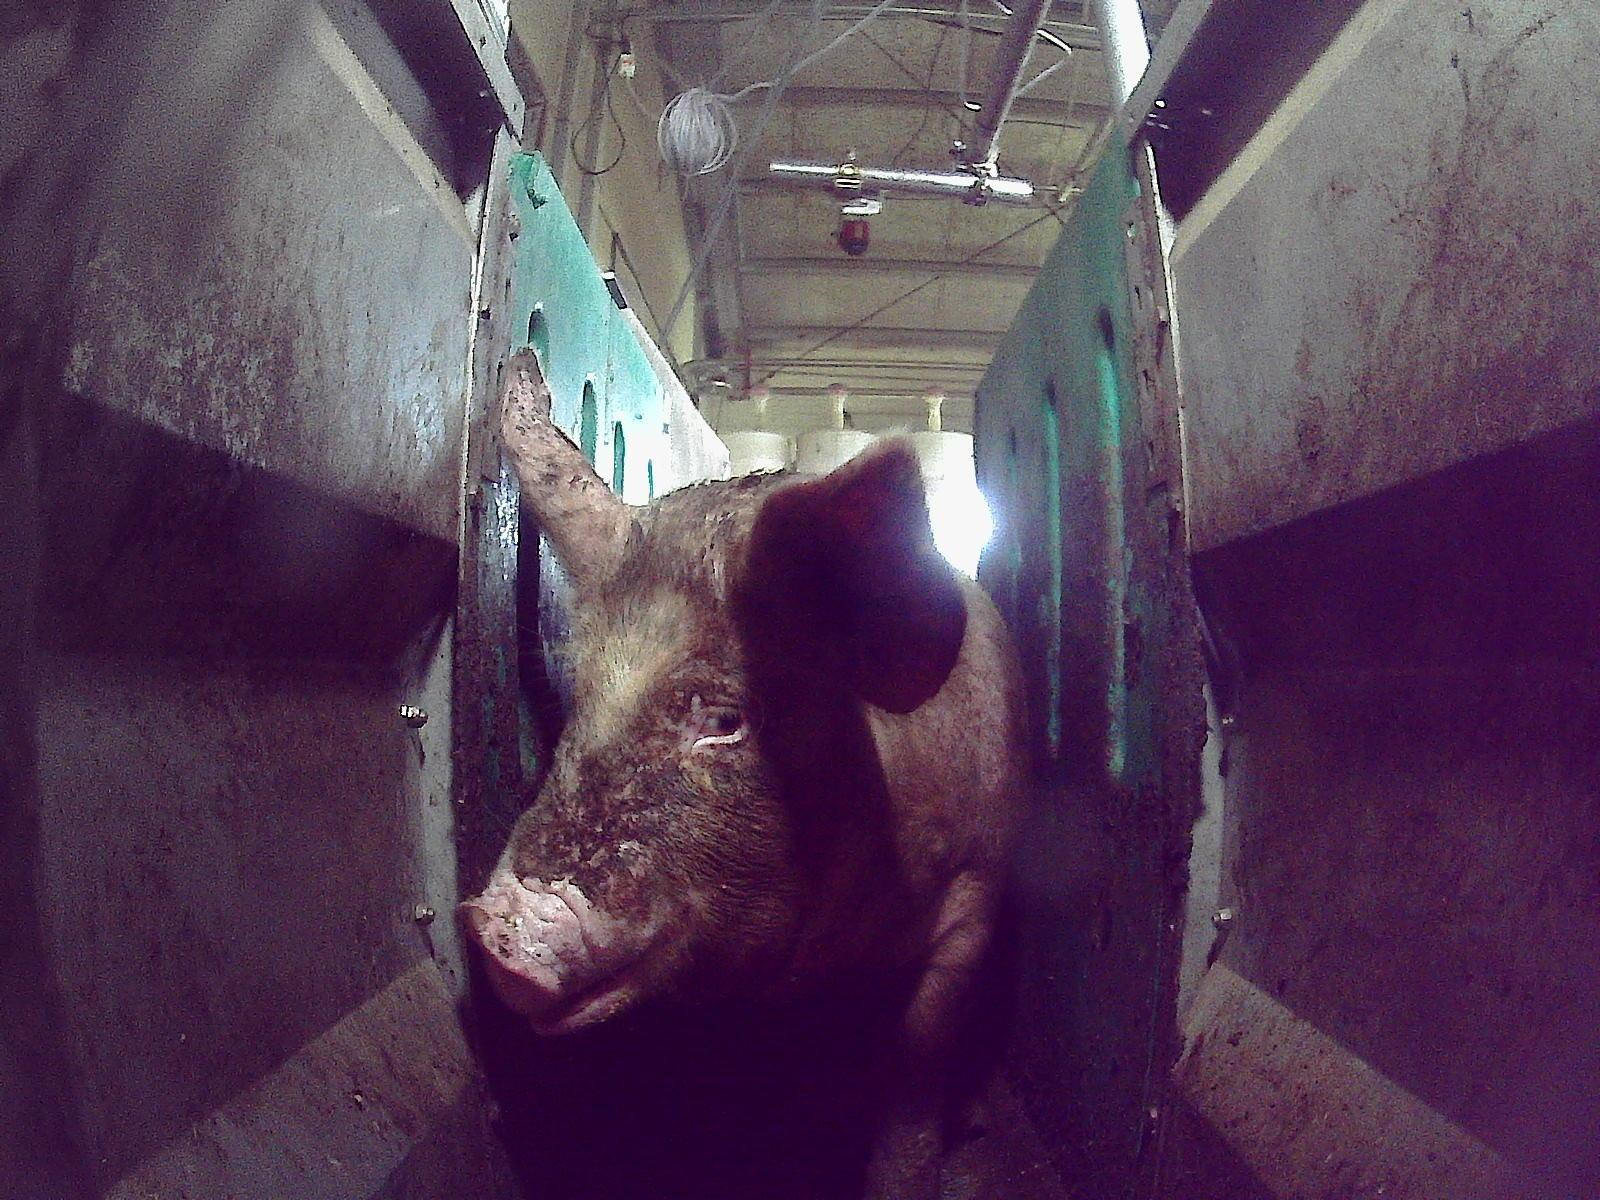Face: (458, 499, 907, 1028)
